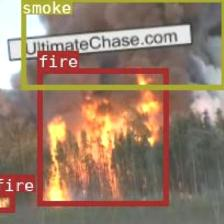fire: (37, 68, 167, 205), (0, 191, 13, 211)
smoke: (19, 0, 224, 89)
